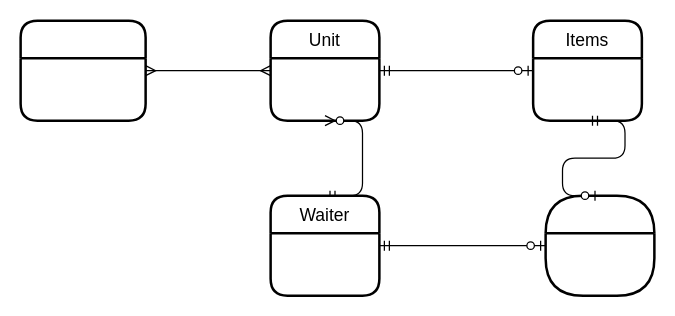
The diagram is 675 pixels wide and 316 high, and some of its shapes have lost their labels. Each missing label, with the centre of its shape:
Order: point (599, 245)
User: point (82, 70)
